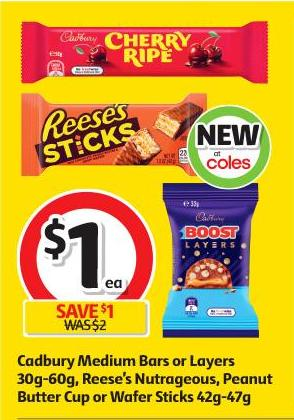description_block: (11, 346, 280, 412)
price_main: (8, 204, 156, 301)
product_image_block: (13, 12, 274, 92)
promo_text_block: (16, 302, 154, 336)
